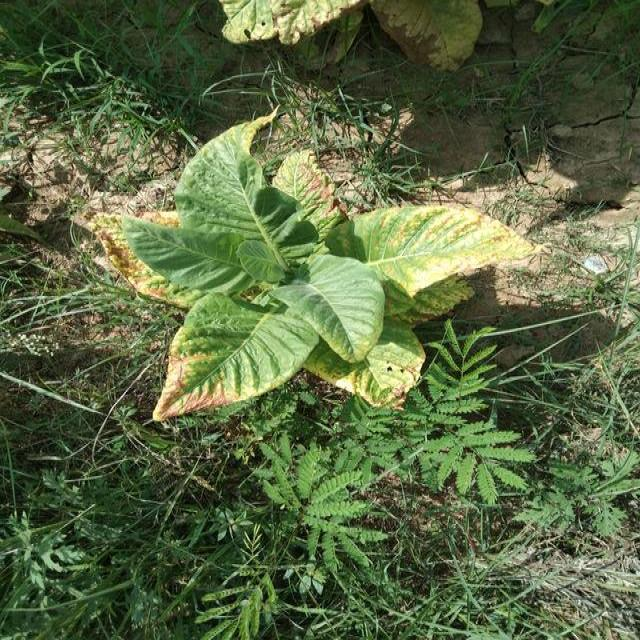crop: (95, 122, 538, 411), (221, 0, 484, 71)
